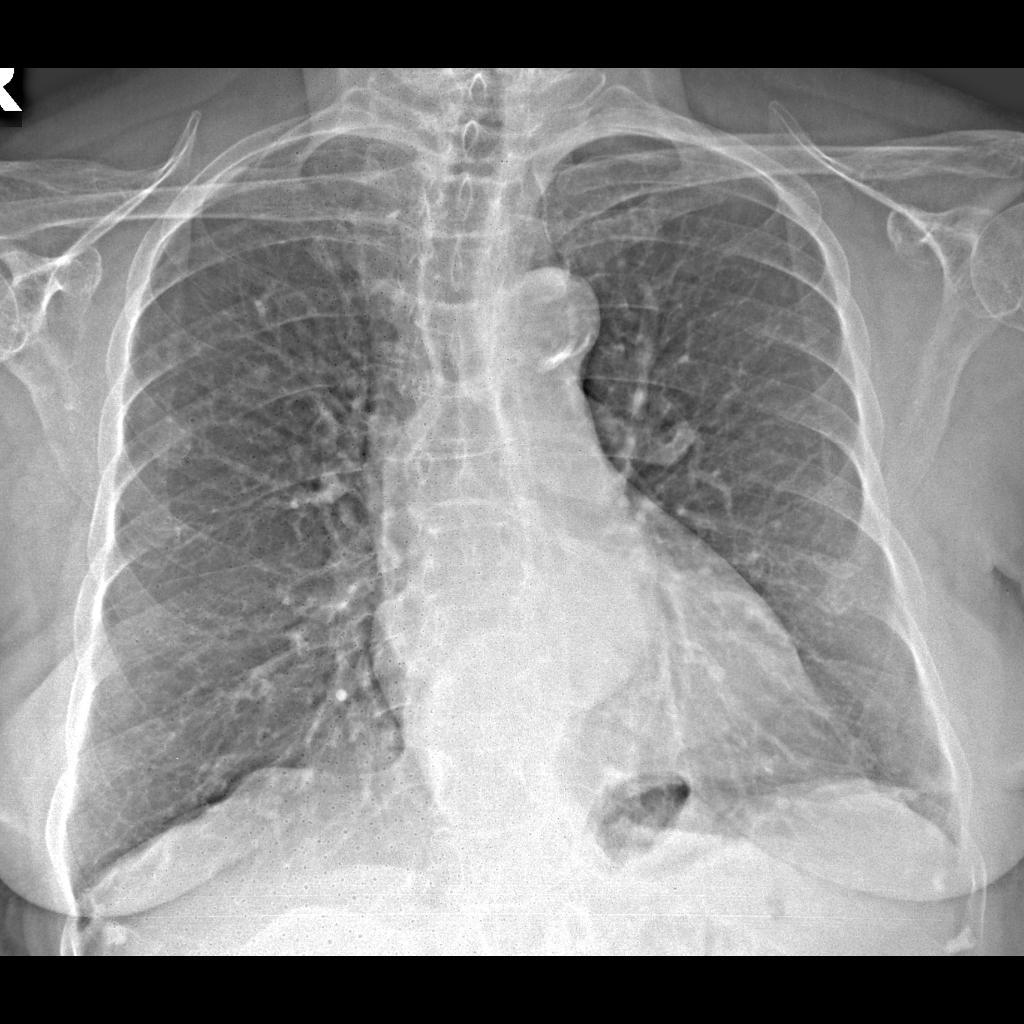Nodule: (138, 397, 201, 485)
